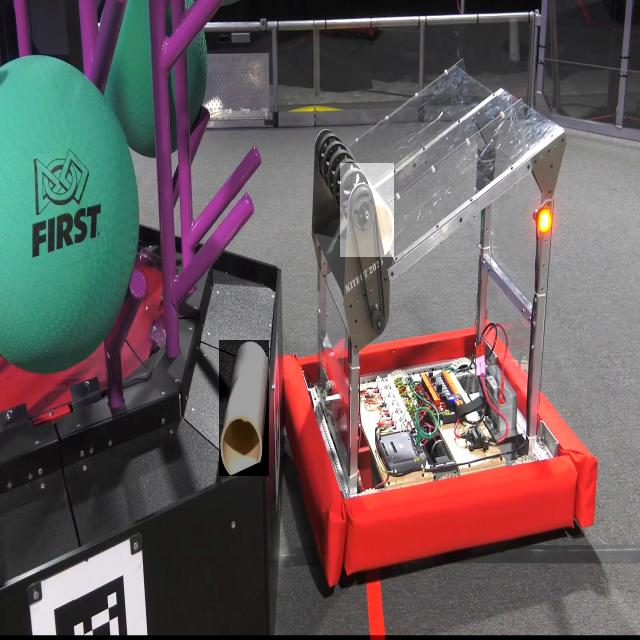Coral: (219, 340, 269, 476), (340, 163, 394, 257)
